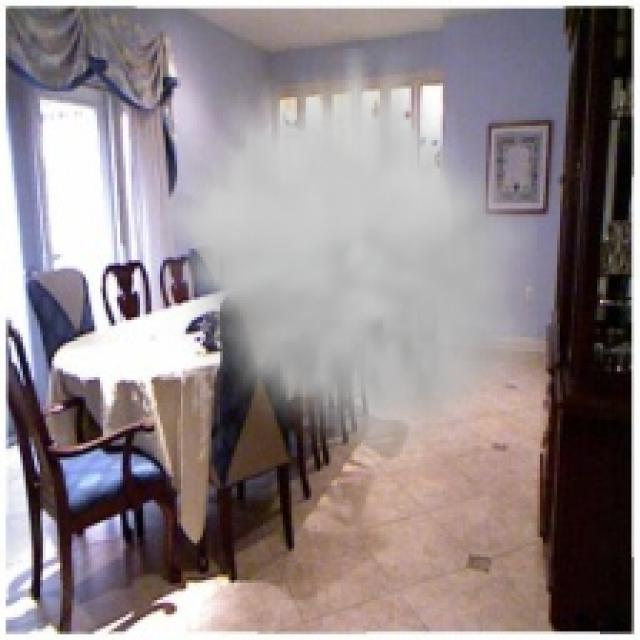smoke: (163, 49, 537, 474)
